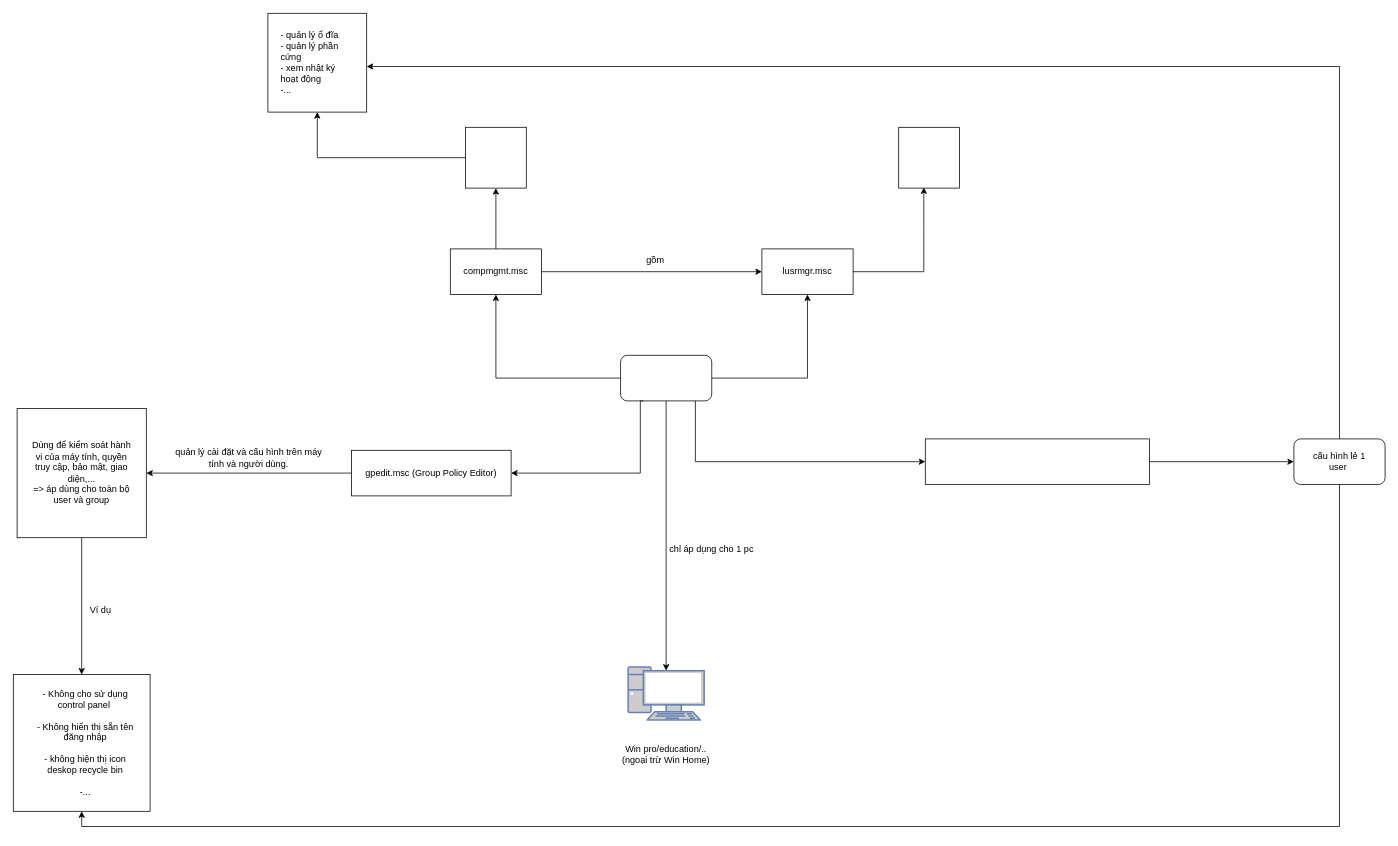
Some shapes in this 1398 by 846 pixel diagram are drawn without their labels. The box of each missing label's shape, as (x1, y1, x2, y2) in pixels:
cấu hình và quản lý user và group: (898, 127, 960, 188)
mmc.exe (Microsoft Management Console): (925, 438, 1150, 484)
Mạng ngang hàng: (620, 355, 712, 401)
Quản lý hệ thống máy tính: (465, 127, 526, 188)
